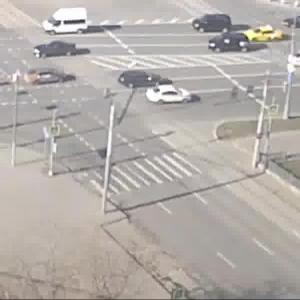car: (43, 6, 93, 35), (20, 64, 70, 89), (210, 31, 251, 61), (145, 84, 194, 106), (188, 13, 234, 34), (32, 38, 80, 58), (121, 69, 169, 87), (237, 28, 284, 46), (282, 13, 300, 29), (286, 52, 300, 66)
